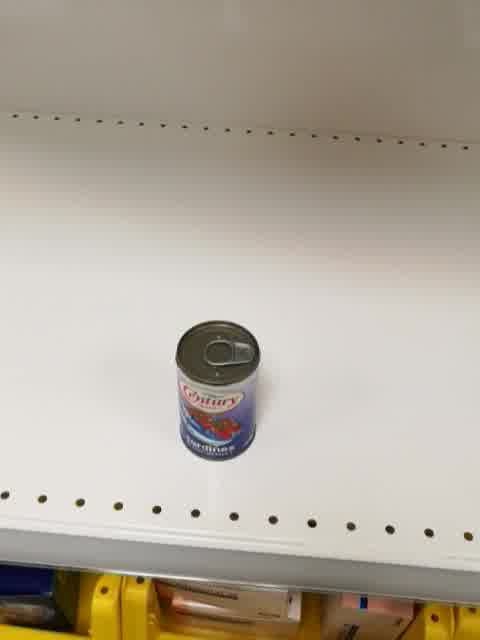sardine: (175, 319, 263, 462)
